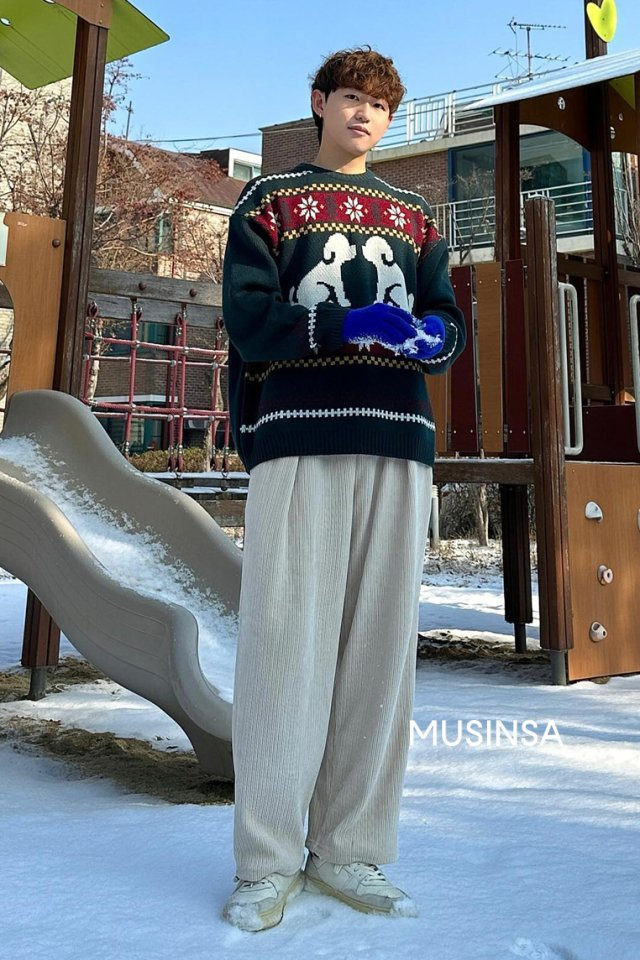Pants: (216, 451, 447, 878)
Shoes: (222, 858, 424, 941)
Top: (213, 153, 462, 476)
